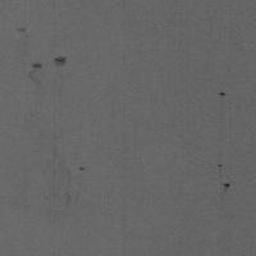Inclusion: (26, 61, 45, 87), (52, 55, 68, 67), (15, 26, 27, 33), (78, 165, 87, 172), (218, 91, 227, 97), (223, 183, 232, 189)
